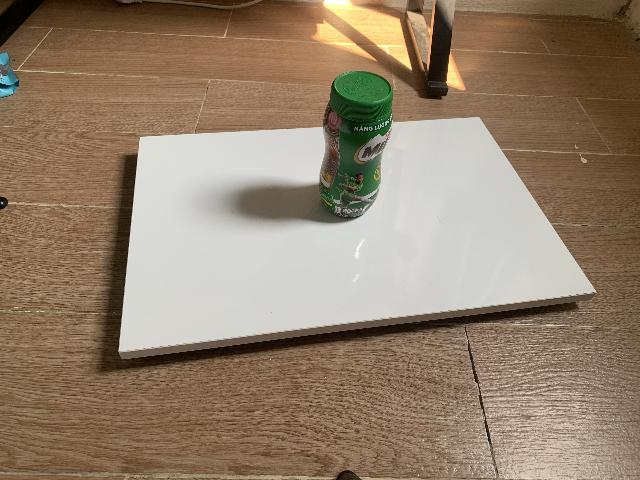milo: (318, 71, 393, 221)
